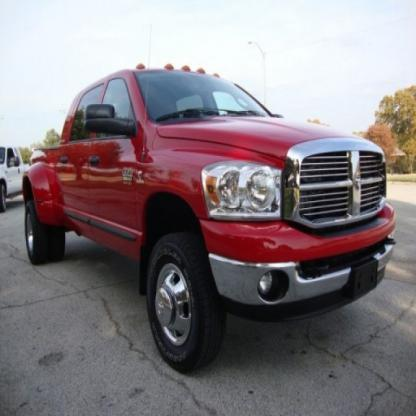car: (21, 62, 400, 377)
